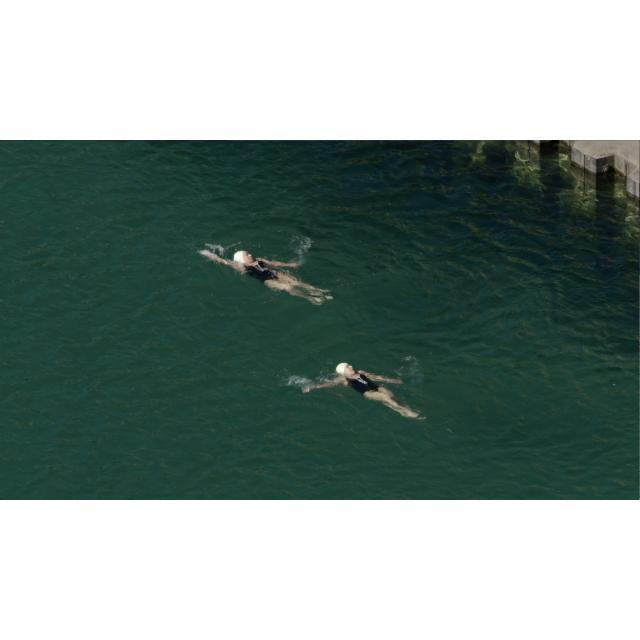human: (201, 242, 329, 306), (301, 361, 423, 421)
